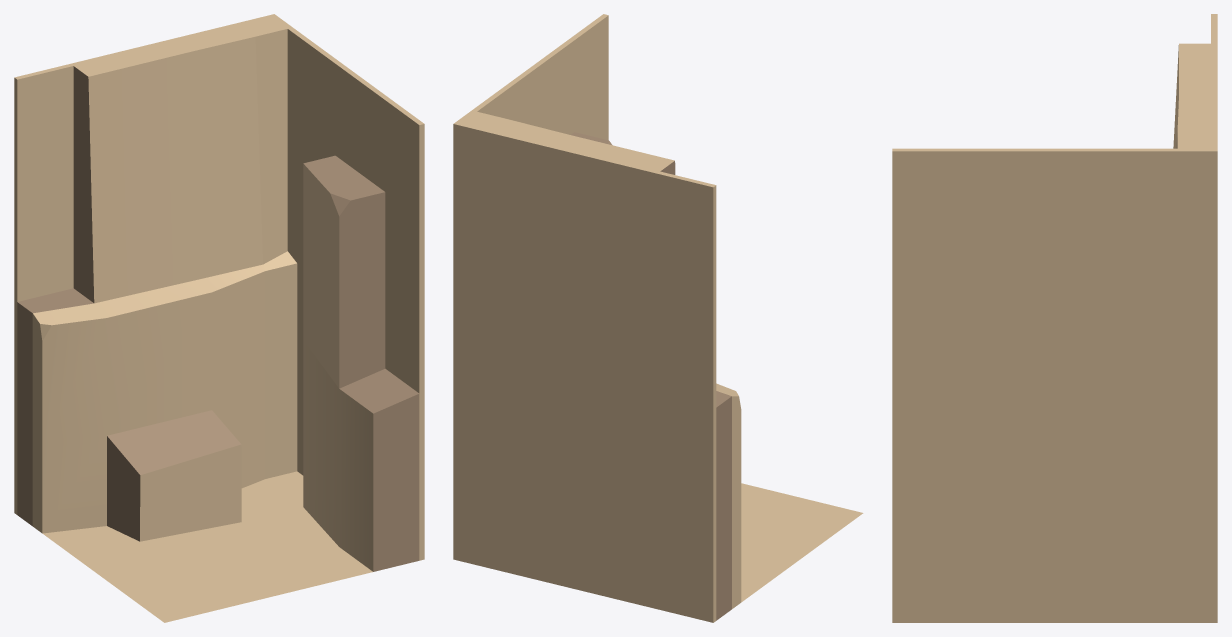
The model's file is CornerEmpty.fbx.
3 renders of one model, left to right at view 1: azimuth 30°, elevation 25°; view 2: azimuth 150°, elevation 25°; view 3: azimuth 270°, elevation 25°, orthographic. The views are drawn at different scales.
Visible parts, largest first — view 1: CornerEmpty; view 2: CornerEmpty; view 3: CornerEmpty.
Boxes of the visible parts, box(x1,y1,x2,y2) form: CornerEmpty: box(14, 14, 424, 622); CornerEmpty: box(453, 14, 863, 622); CornerEmpty: box(892, 14, 1217, 622).
Bounding box in the file's own units: 5 × 8 × 5.
